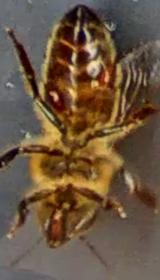varroa_mite: (86, 60, 132, 88), (40, 83, 72, 112)
